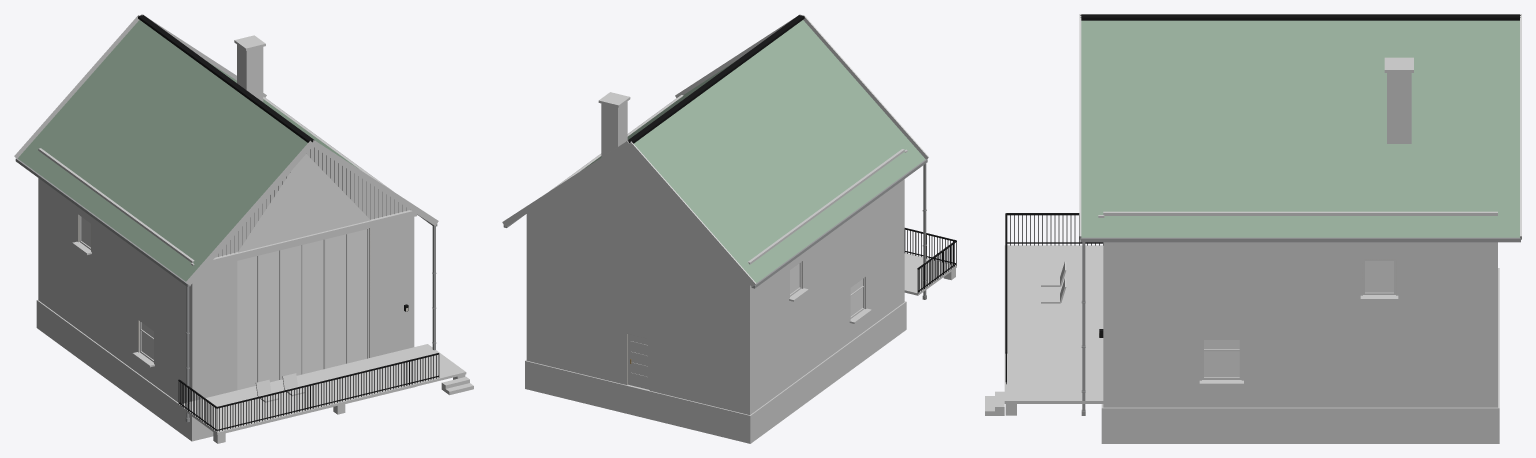
Rendered from hill_cottage_10x12_2.glb.
3 views of the same model, side by side, from view 1: azimuth 30°, elevation 25°; view 2: azimuth 150°, elevation 25°; view 3: azimuth 270°, elevation 25° (orthographic). The views are drawn at different scales.
Visible parts, largest first — view 1: hill_cottage_10x12_2; view 2: hill_cottage_10x12_2; view 3: hill_cottage_10x12_2.
Part boxes in pixels (x1=…): hill_cottage_10x12_2: x1=14, y1=14, x2=473, y2=443; hill_cottage_10x12_2: x1=502, y1=14, x2=956, y2=443; hill_cottage_10x12_2: x1=985, y1=14, x2=1521, y2=443.
Size of the model in its own units: 11.36 by 12.04 by 16.33.
